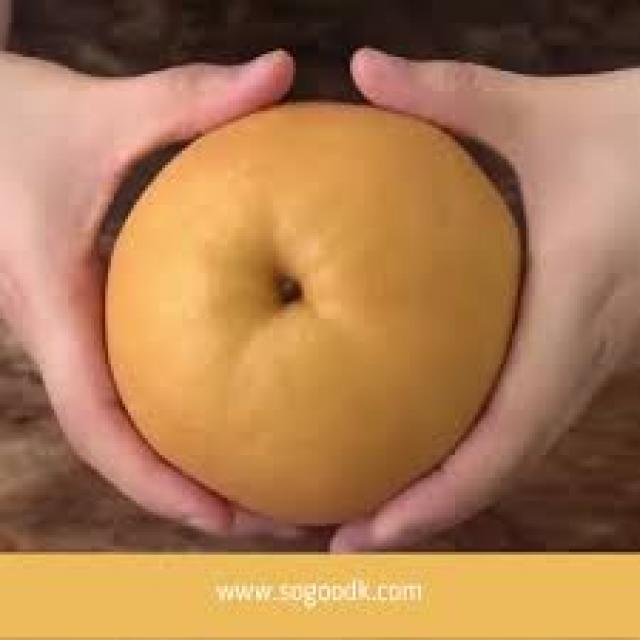Pear: (105, 102, 520, 525)
